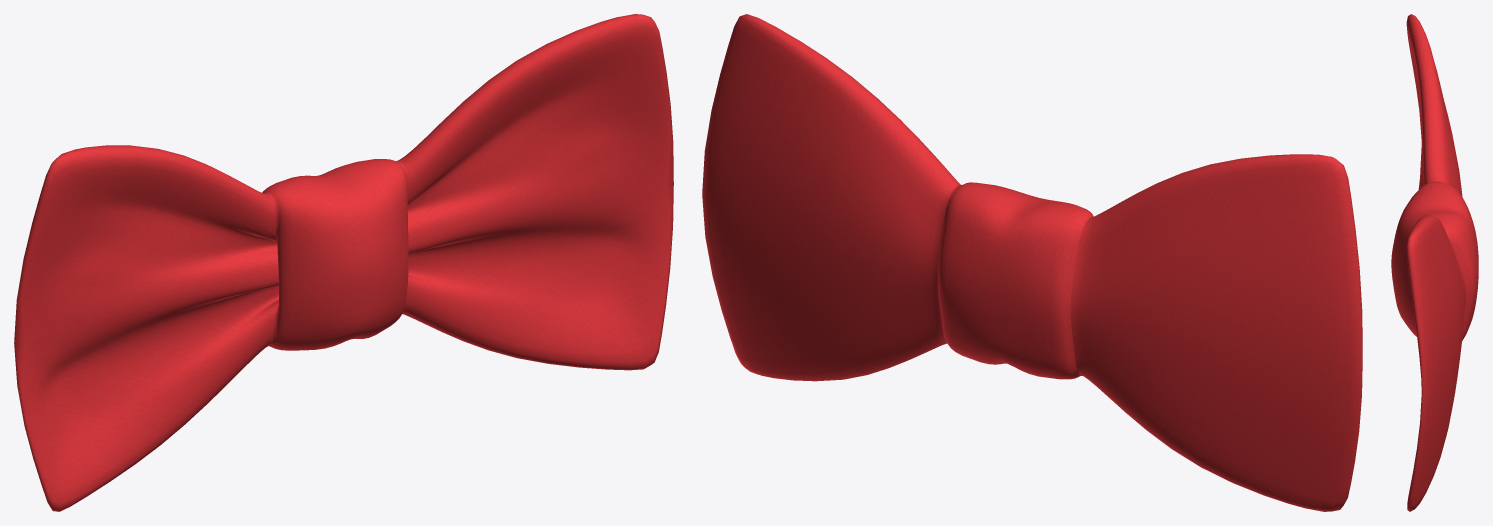
The model's file is red_bowtie.glb.
3 renders of one model, left to right at view 1: azimuth 30°, elevation 25°; view 2: azimuth 150°, elevation 25°; view 3: azimuth 270°, elevation 25°, orthographic. The views are drawn at different scales.
Visible parts, largest first — view 1: Cube.001, Cube; view 2: Cube.001, Cube; view 3: Cube.001, Cube.
Part boxes in pixels (left/top/right/bottom): Cube.001: left=14, top=14, right=673, bottom=511; Cube: left=262, top=159, right=408, bottom=350; Cube.001: left=702, top=14, right=1362, bottom=511; Cube: left=937, top=182, right=1093, bottom=379; Cube.001: left=1406, top=14, right=1466, bottom=511; Cube: left=1391, top=181, right=1478, bottom=340.
Bounding box in the file's own units: 509 × 262 × 75.13.
1 material, 1 textured.
